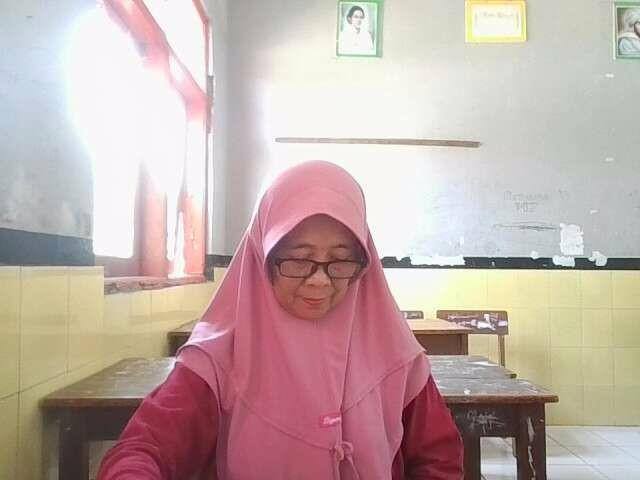good: (79, 143, 479, 480)
